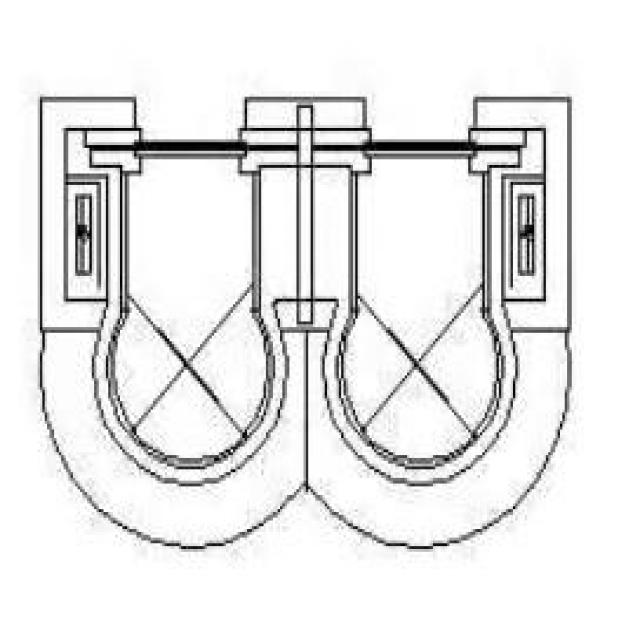lift: (36, 94, 570, 543)
